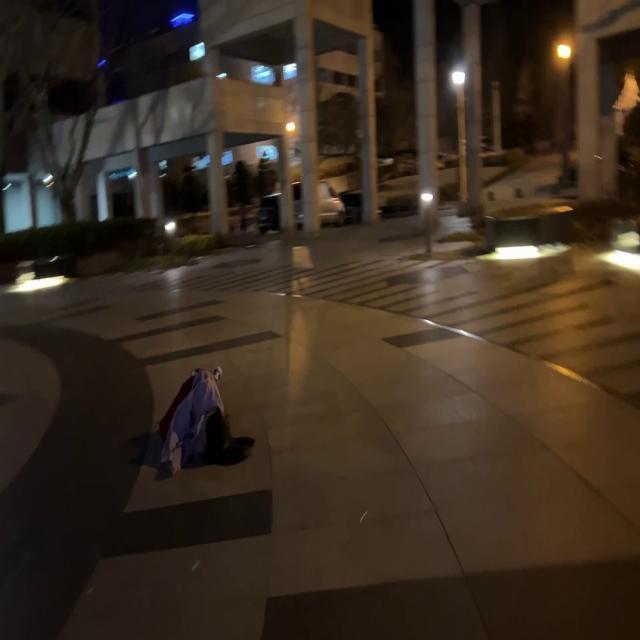Fall: (158, 369, 255, 478)
